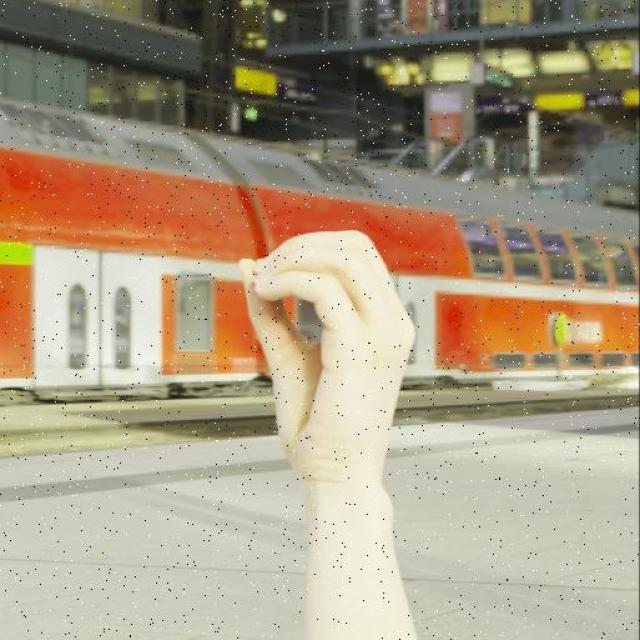O: (236, 227, 419, 485)
